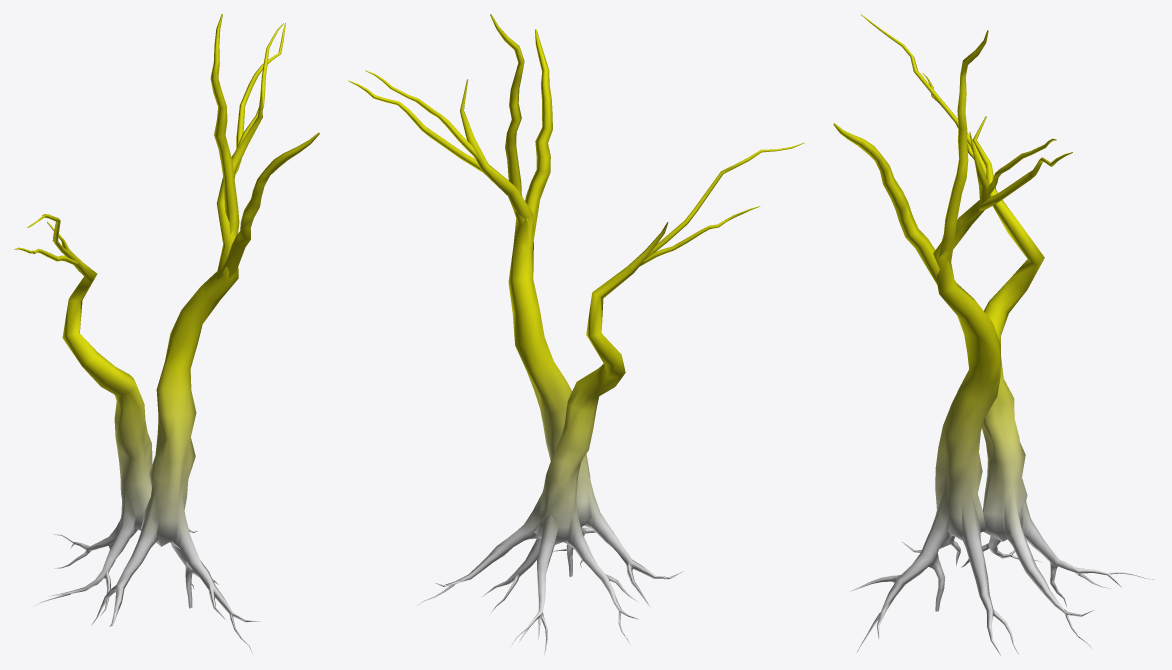
Rendered from Deadtree8.fbx.
3 renders of one model, left to right at view 1: azimuth 30°, elevation 25°; view 2: azimuth 150°, elevation 25°; view 3: azimuth 270°, elevation 25°, orthographic. The views are drawn at different scales.
Visible parts, largest first — view 1: Deadtree8_LOD0; view 2: Deadtree8_LOD0; view 3: Deadtree8_LOD0.
Boxes of the visible parts, x1=… form: Deadtree8_LOD0: x1=14, y1=14, x2=319, y2=653; Deadtree8_LOD0: x1=348, y1=14, x2=804, y2=653; Deadtree8_LOD0: x1=833, y1=14, x2=1152, y2=655.
Size of what is drawn, in the model's own units: 683 by 1079 by 496.
